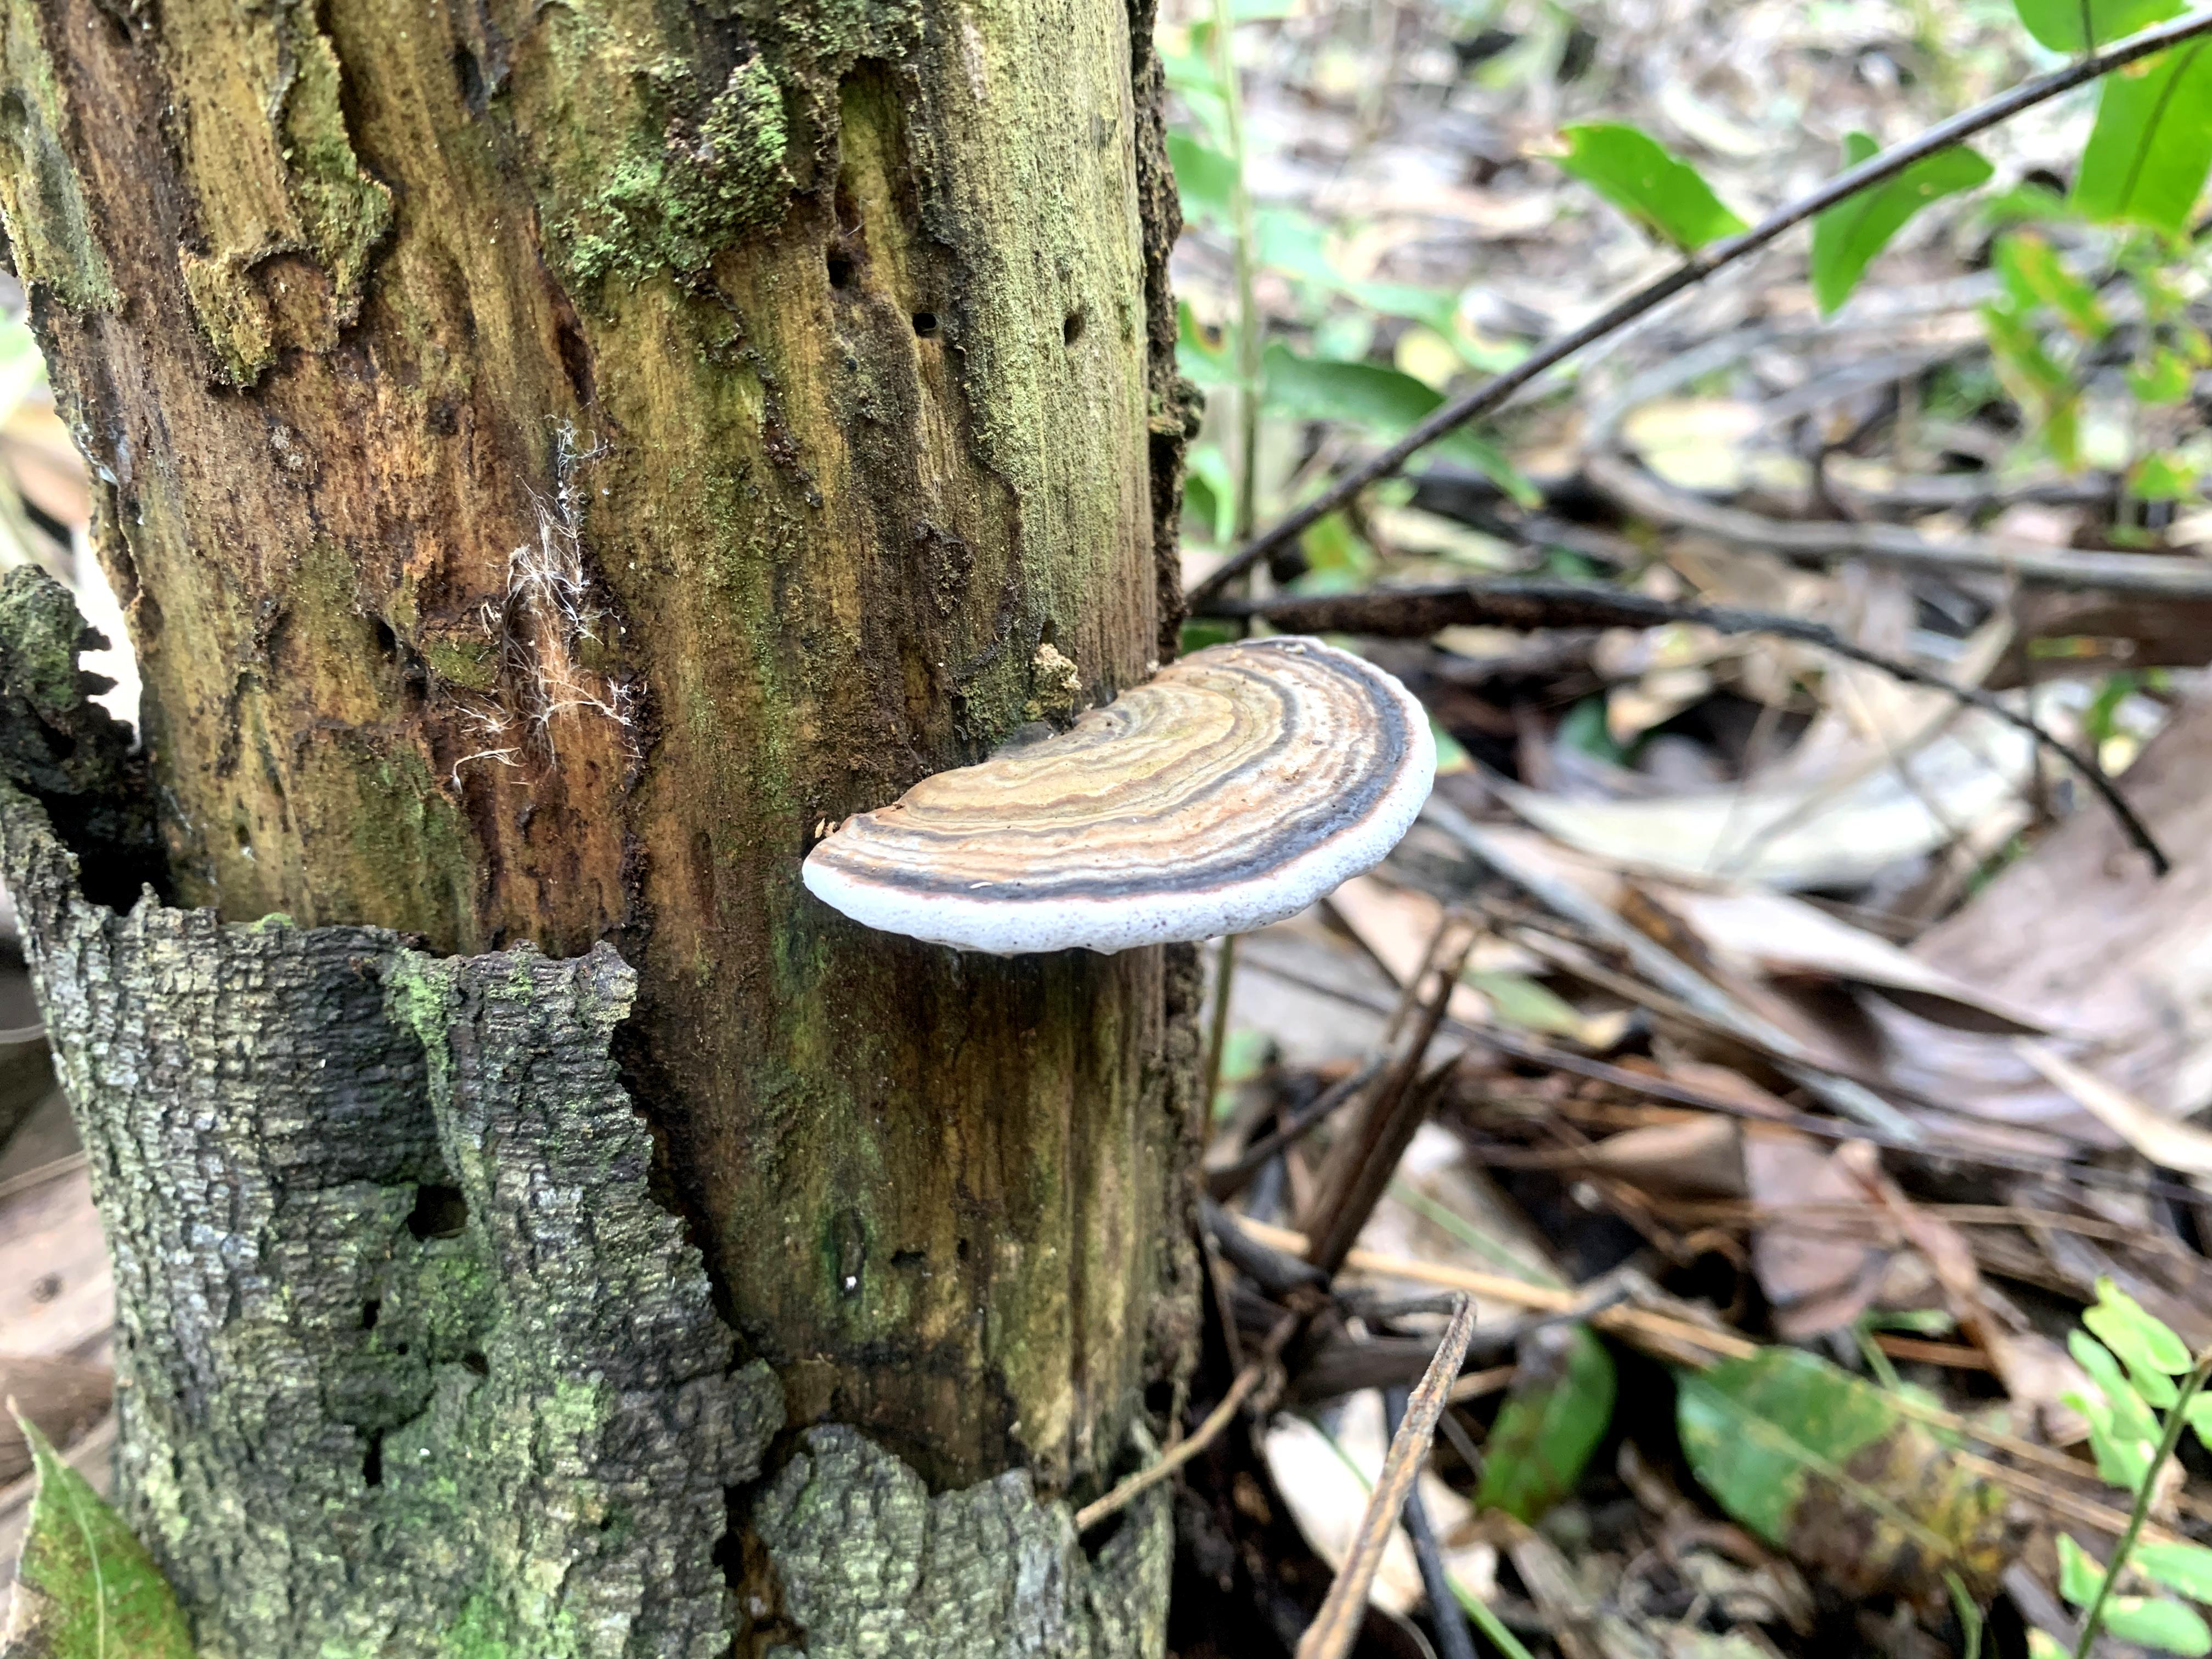Ganoderma - Fruit Body: (812, 634, 1444, 955)
